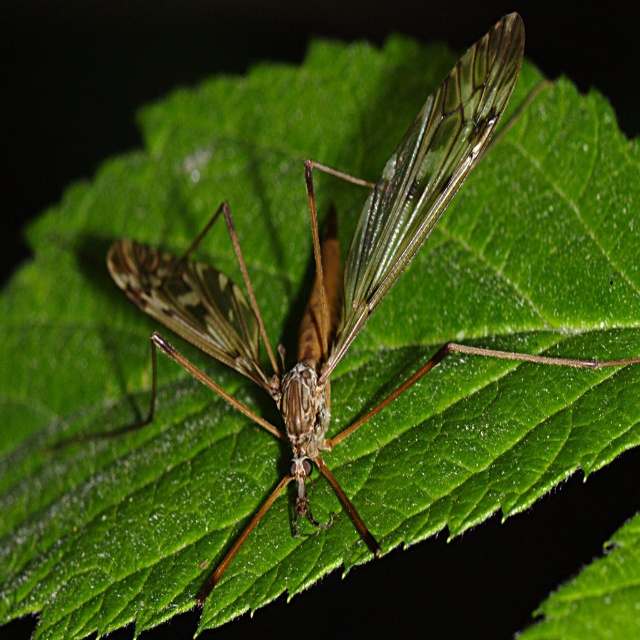Moths and butterflies: (41, 13, 640, 633)
